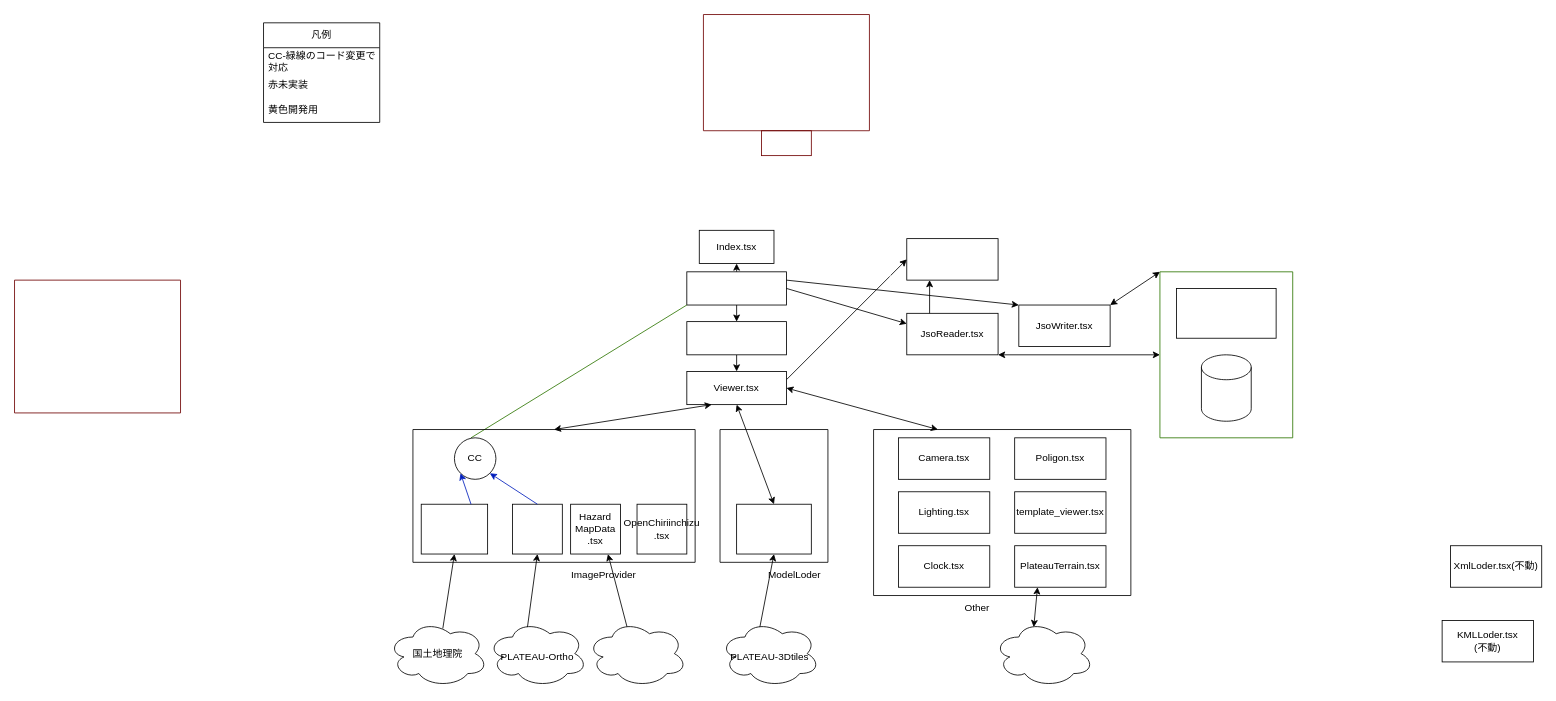
The diagram is 1556 pixels wide and 701 high, and some of its shapes have lost their labels. The centre of each missing label's shape, as x and y in pixels:
App.tsx: the point at 736,288
Geological SurveyData .tsx: the point at 454,528
Index.js: the point at 1226,313
Plateau Ortho.tsx: the point at 537,528
PLATEAU-Terrain: the point at 1043,653
PlateauModel Latest.tsx: the point at 773,528
Pointer.tsx: the point at 952,259
SQLiteDB: the point at 1226,387
Style.tsx: the point at 736,338
ハザードマップ ポータルサイト: the point at 636,653
